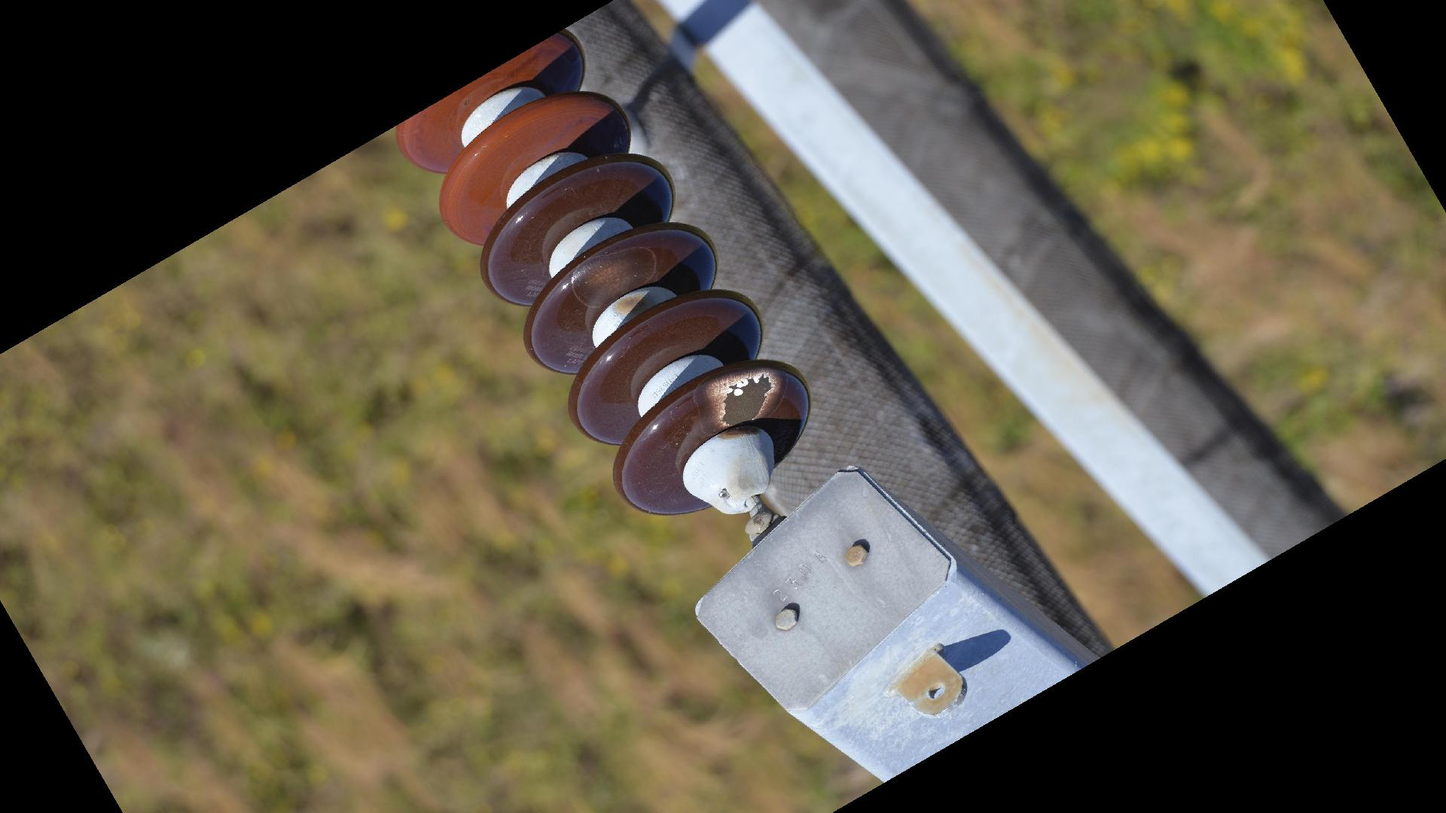insulator: (386, 26, 815, 521)
insulator_flashover: (566, 242, 659, 312), (716, 368, 777, 430)
